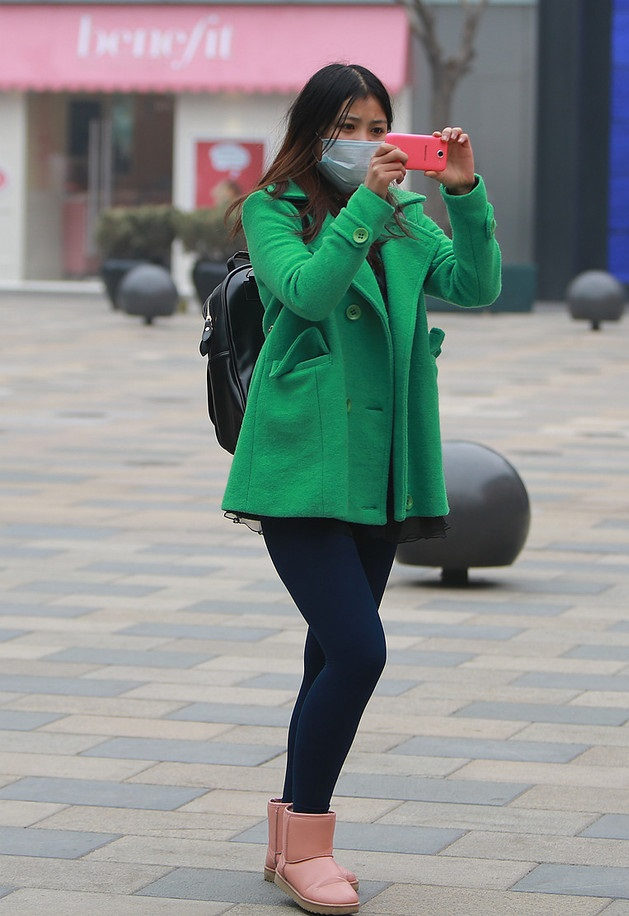face_mask: (324, 89, 388, 191)
